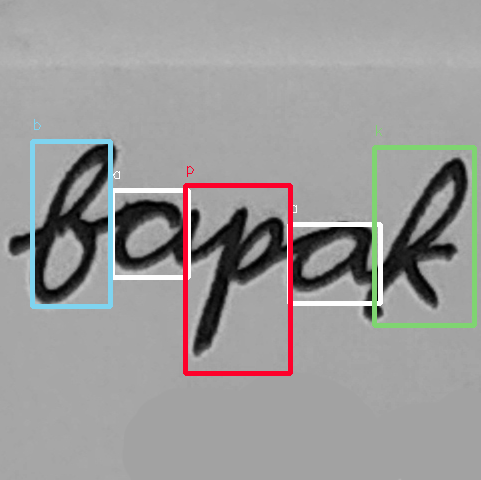a: (282, 215, 380, 296), (107, 195, 204, 276)
b: (25, 139, 120, 307)
k: (358, 153, 470, 324)
p: (186, 203, 290, 361)
